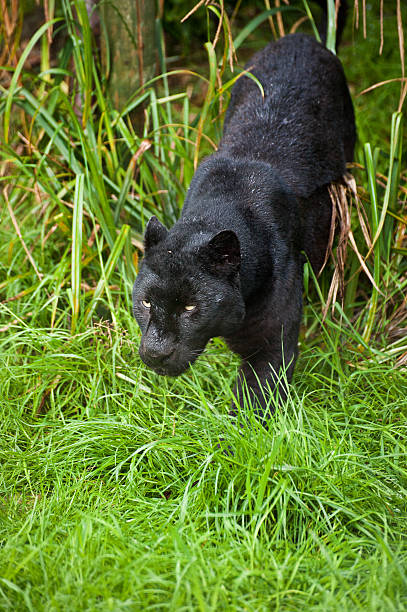panther: (101, 214, 246, 376)
